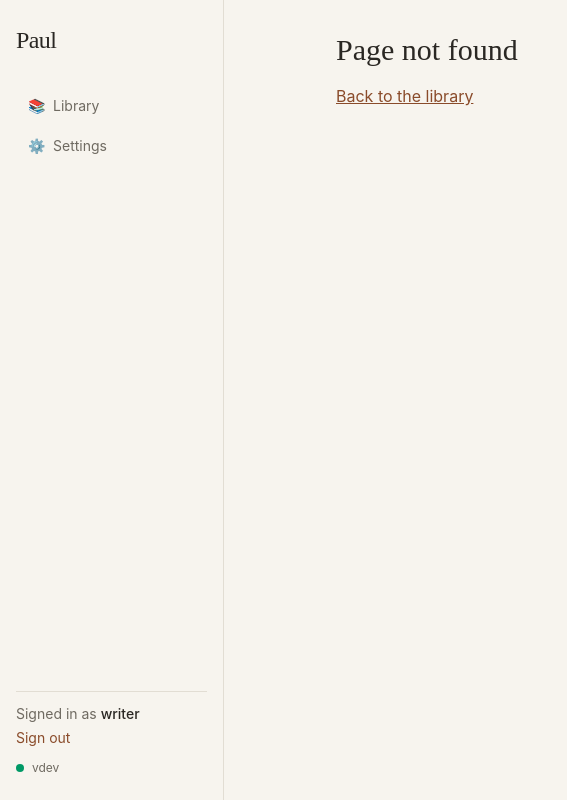
Test case: AppShell › shows a not-found page for unknown routes
The image size is (567, 800).
Expected: the heading "Page not found" is shown, [336,33,518,66]
Click the link "Back to the library".
click(405, 96)  # box [336,84,473,108]
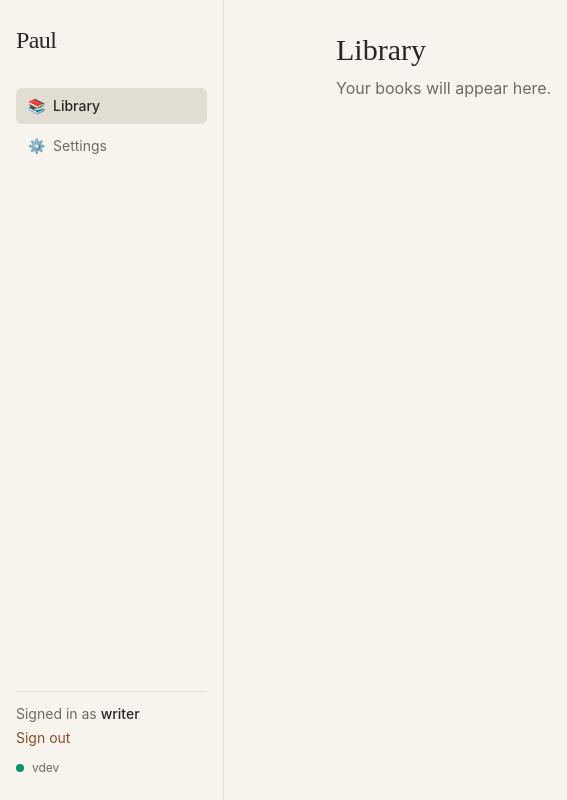
Expected: the heading "Library" is shown, [336,33,426,66]
